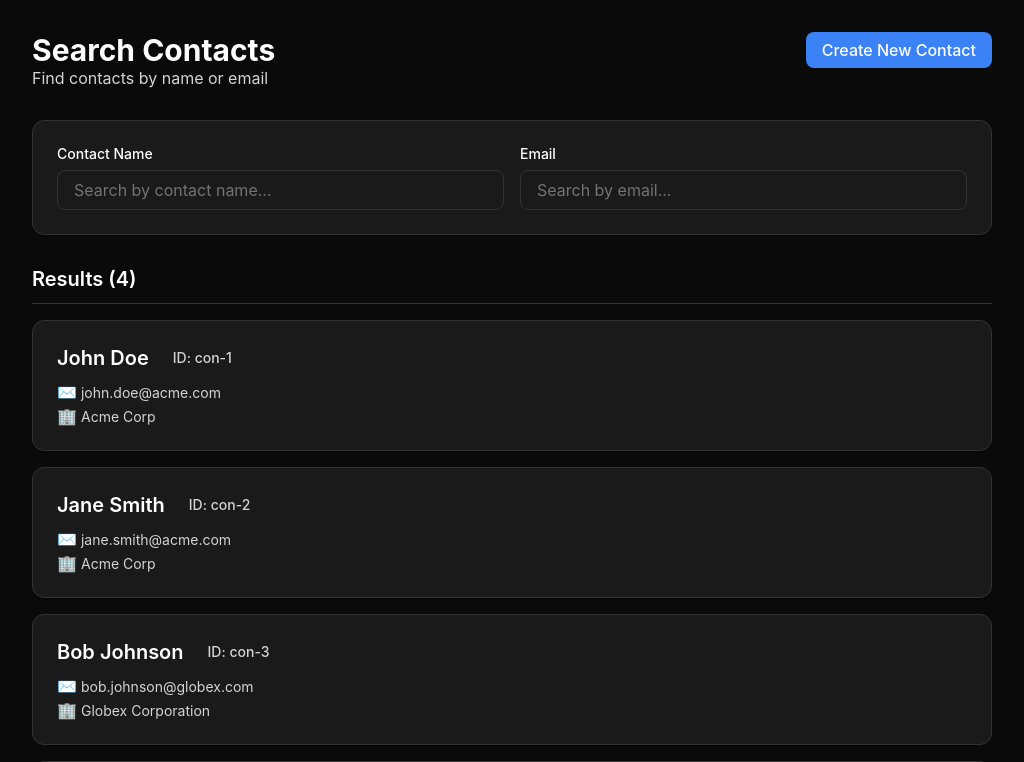
Test case: SearchContacts › filters contacts by email
Expected: the heading "Search Contacts" is shown, [32,32,275,68]
Type "acme" into the field with placeholder "Search by email..." at (744, 190), box [520,170,967,210]
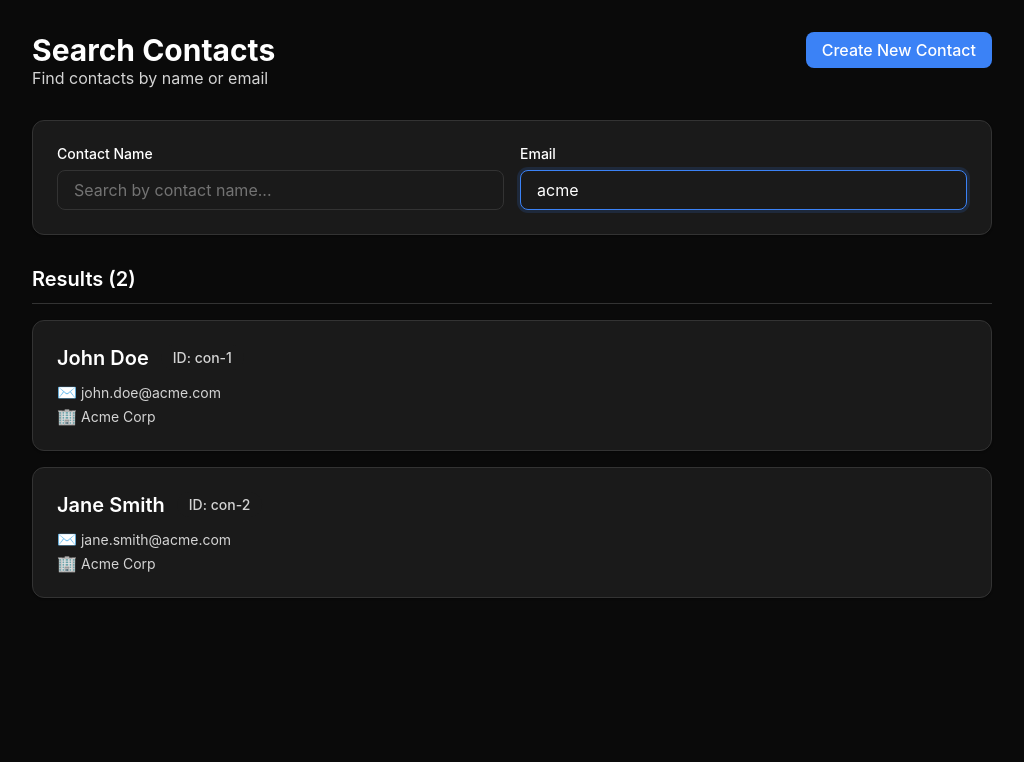
Expected: the heading "John Doe" is shown, [57,346,149,370]
Now the heading "Results (2)" is shown, box [32,267,136,291]
Now the button "Bob Johnson" is gone
